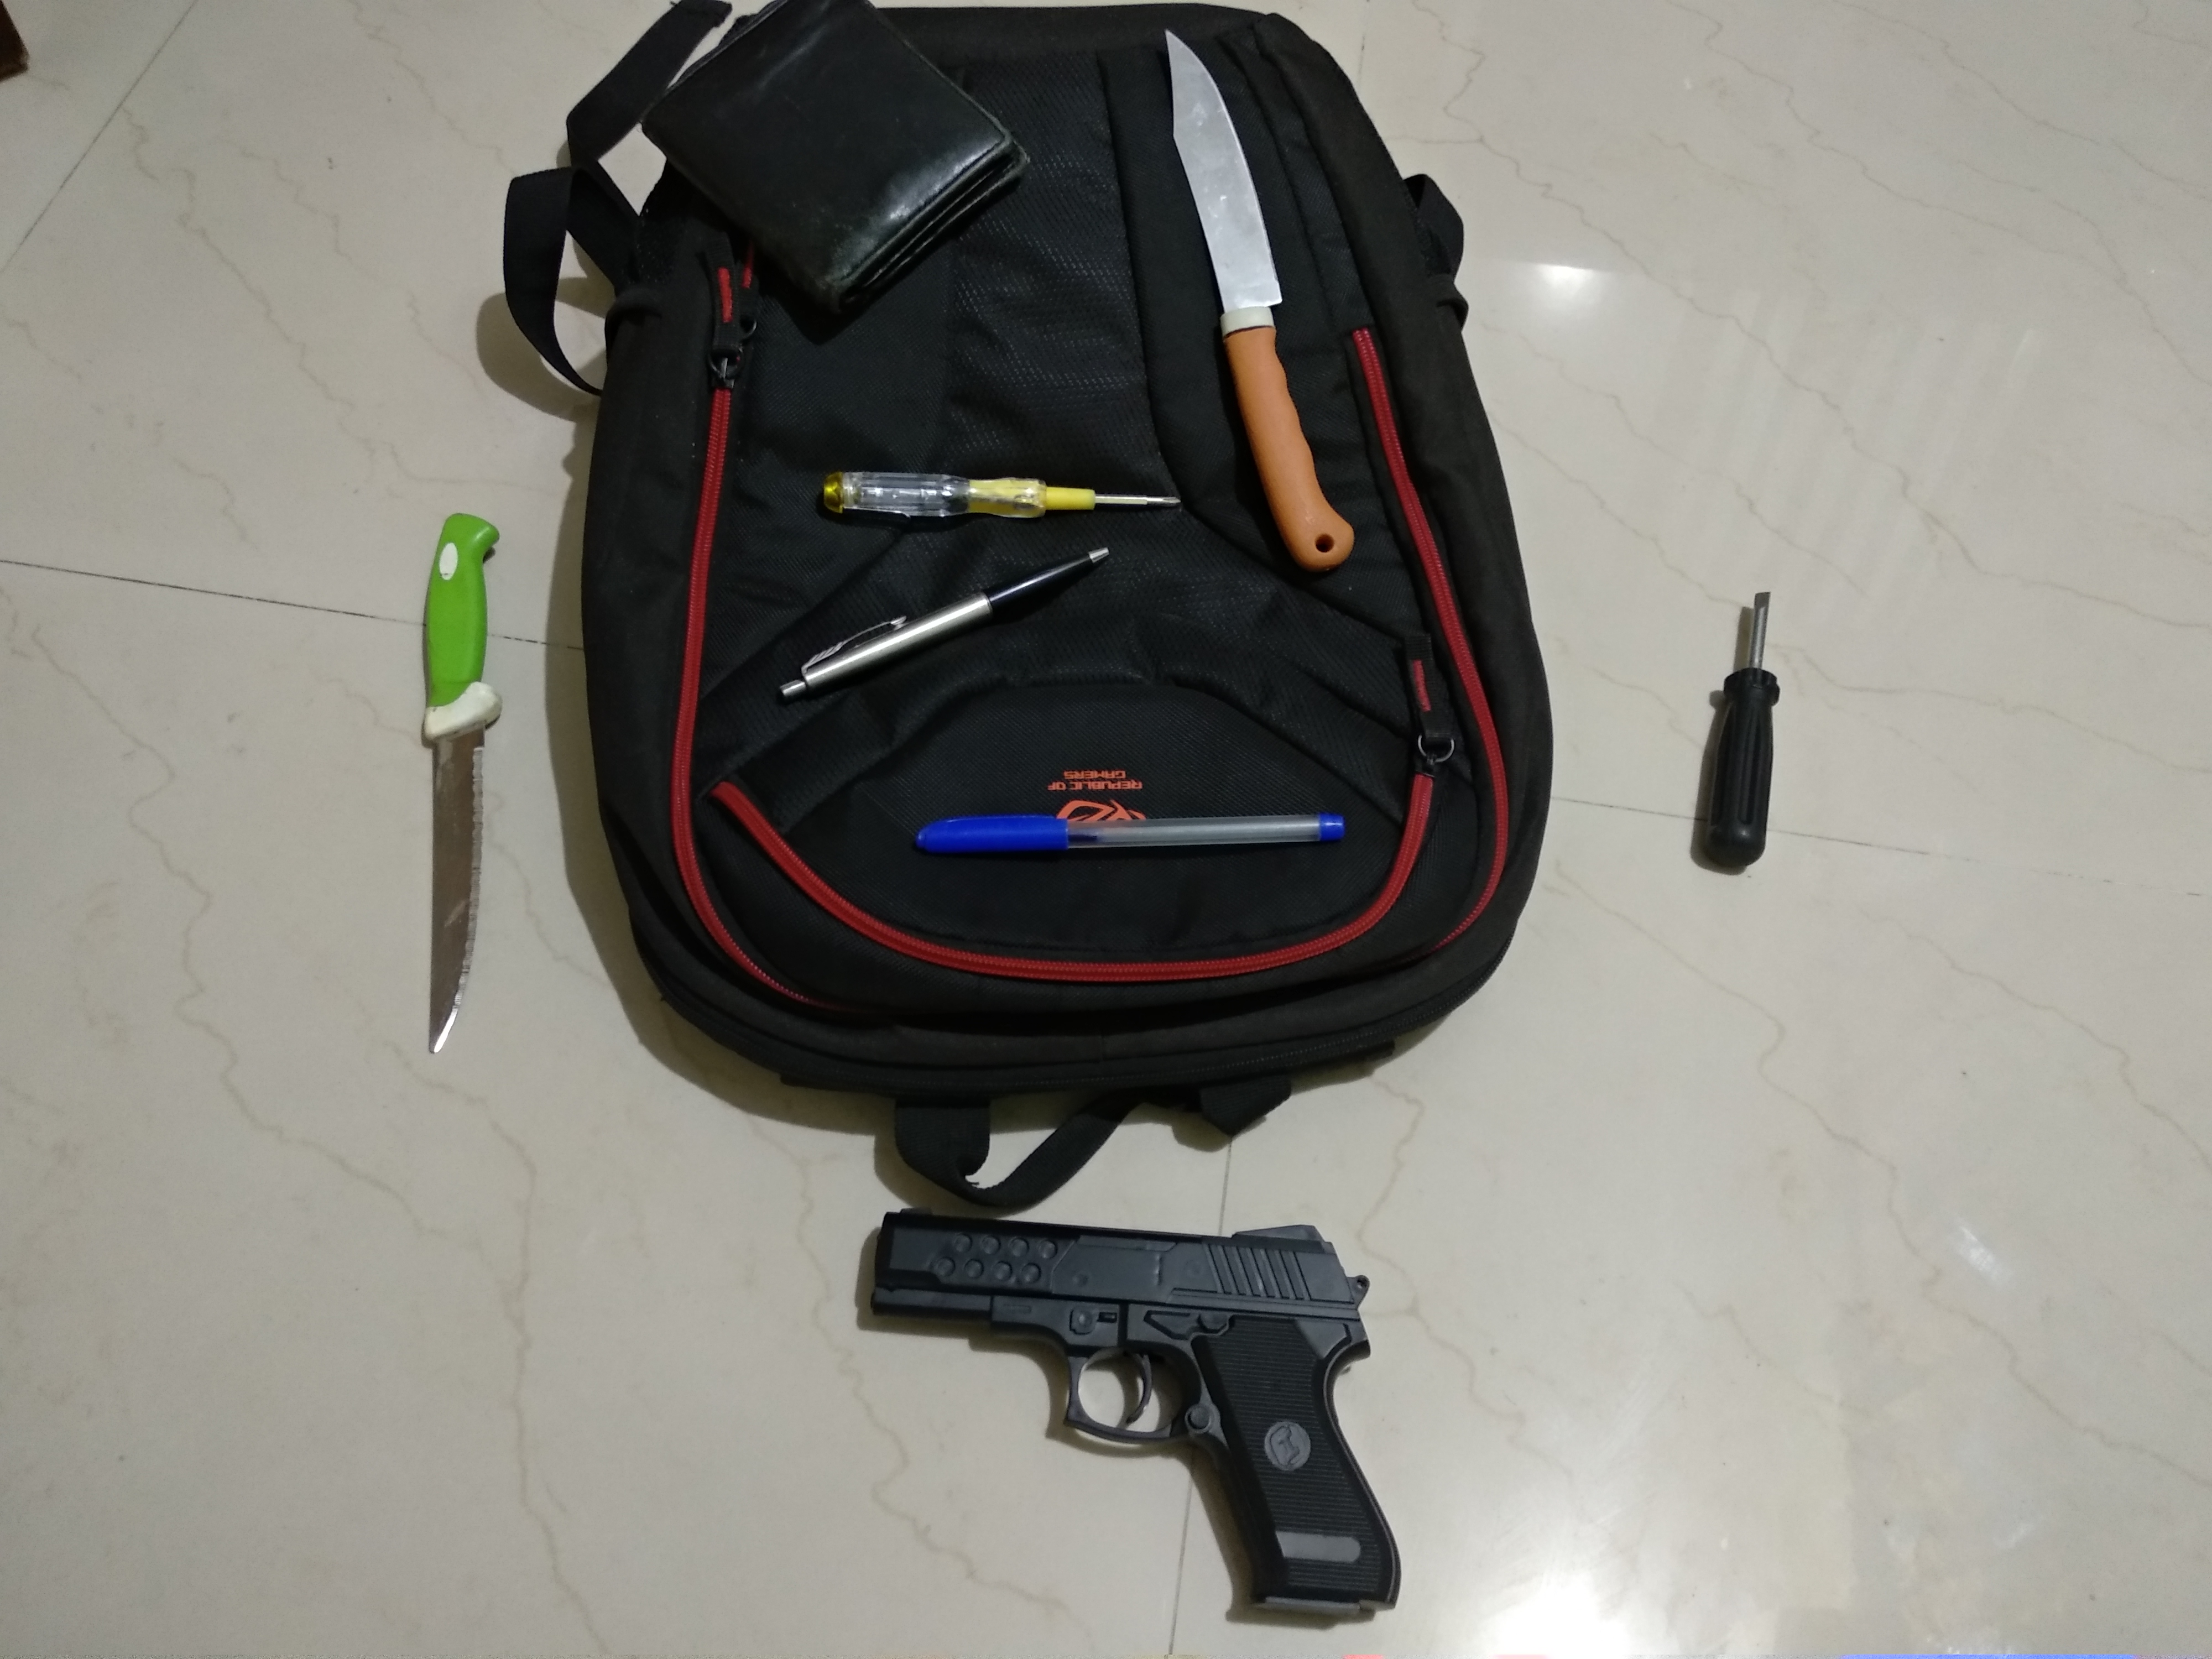gun: (848, 1195, 1426, 1621)
knife: (1143, 9, 1341, 559), (380, 500, 519, 1066)
none: (773, 540, 1111, 695), (900, 803, 1348, 859)
none2: (617, 0, 1028, 312)
none3: (1688, 552, 1794, 861), (801, 451, 1204, 528)
